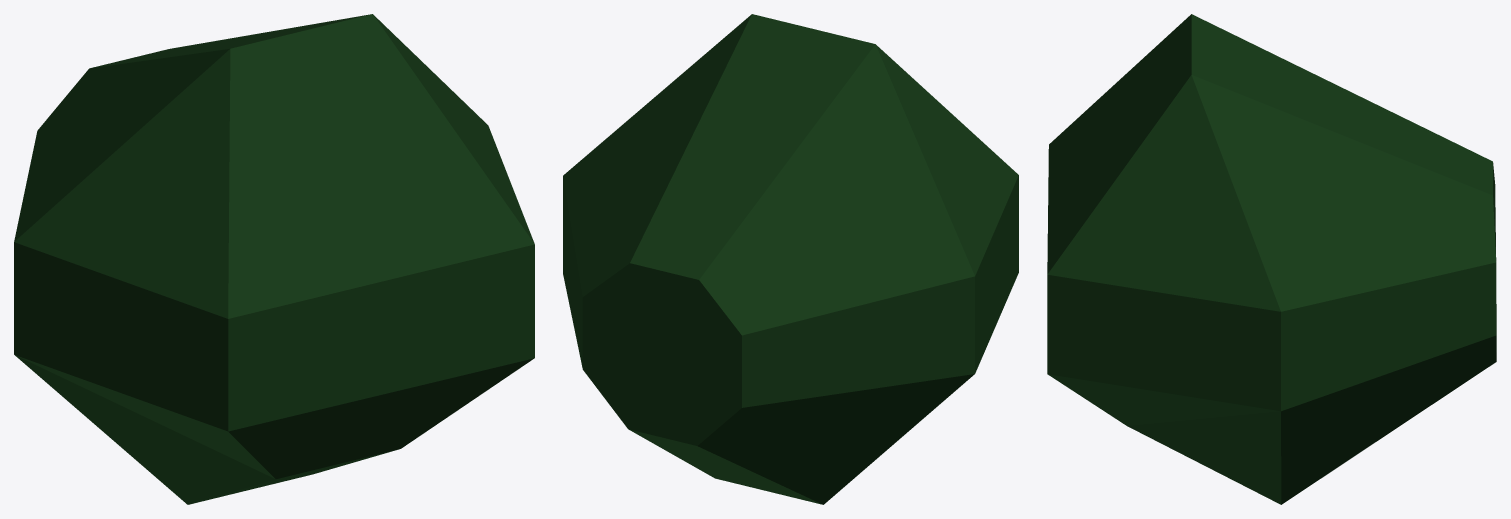
File: CeleryLeavesCollider.obj
3 renders of one model, left to right at view 1: azimuth 30°, elevation 25°; view 2: azimuth 150°, elevation 25°; view 3: azimuth 270°, elevation 25°, orthographic. The views are drawn at different scales.
Parts seen in each view (by area): view 1: leek.003; view 2: leek.003; view 3: leek.003.
Boxes of the visible parts, bbox=[...] form: leek.003: bbox=[14, 14, 534, 504]; leek.003: bbox=[563, 14, 1018, 504]; leek.003: bbox=[1047, 14, 1496, 504].
Size of the model in its own units: 0.1432 by 0.1429 by 0.1341.
